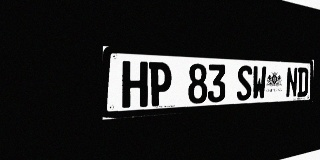3: (208, 64, 226, 103)
8: (188, 63, 208, 104)
D: (297, 67, 308, 97)
H: (122, 61, 148, 108)
N: (286, 67, 298, 98)
P: (148, 62, 172, 106)
S: (237, 65, 252, 101)
W: (252, 66, 266, 100)
